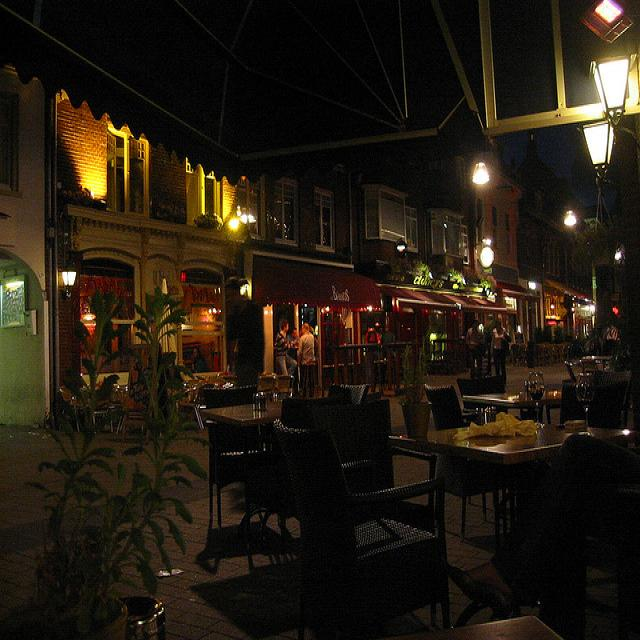Cup: (522, 367, 551, 432), (578, 367, 601, 436), (600, 344, 624, 382), (248, 383, 272, 417), (479, 399, 498, 435)
People: (262, 304, 298, 375), (452, 308, 490, 375), (486, 300, 511, 395), (299, 310, 323, 383), (366, 319, 383, 361)
Table: (421, 411, 635, 545), (241, 383, 389, 540)
chair: (282, 417, 478, 640), (334, 361, 387, 453), (209, 371, 256, 463)
